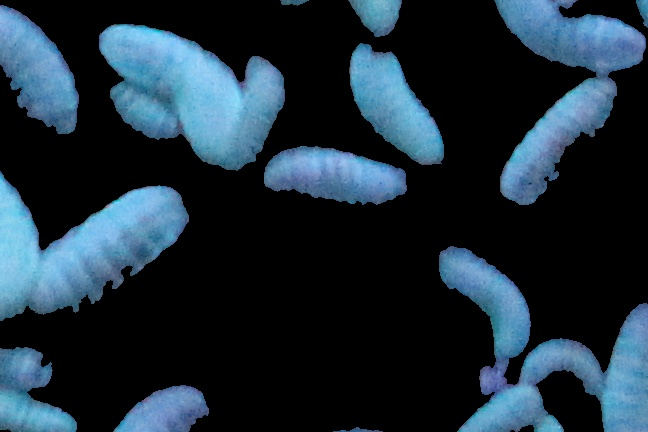larvae: (97, 26, 248, 169), (31, 187, 186, 316), (496, 78, 622, 203), (250, 131, 417, 212), (348, 44, 450, 175), (428, 247, 533, 363), (1, 1, 78, 139), (478, 1, 641, 65), (598, 294, 648, 432), (517, 330, 605, 398), (238, 49, 284, 160), (115, 387, 210, 432), (461, 392, 548, 432), (1, 387, 86, 424)
